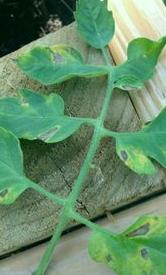Tomato Early blight leaf: (0, 88, 86, 144), (90, 214, 166, 275), (112, 23, 166, 95), (7, 46, 102, 85), (112, 109, 166, 175)
Tomato leaf: (72, 0, 119, 49)
